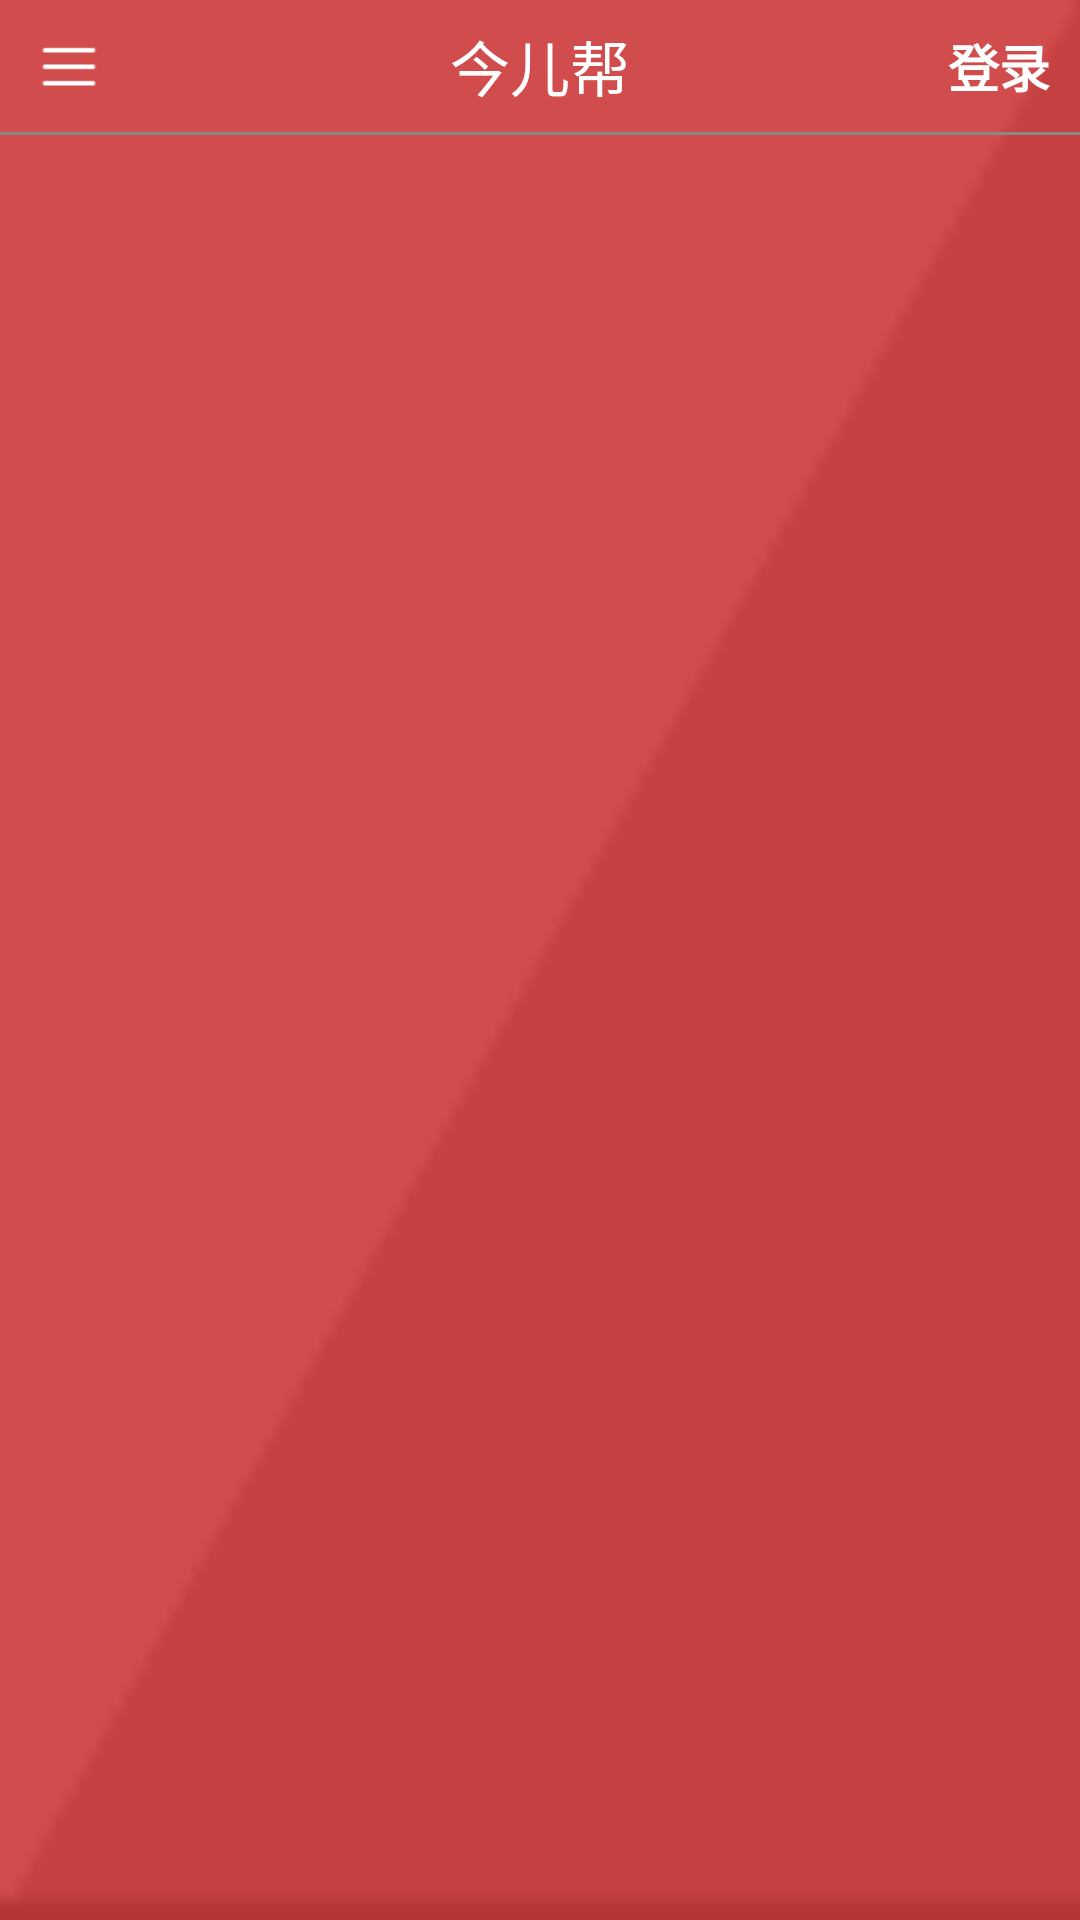

Icon click points for this 1080×1920 phone screenshot, format [x,y]:
title more: [69,66]
